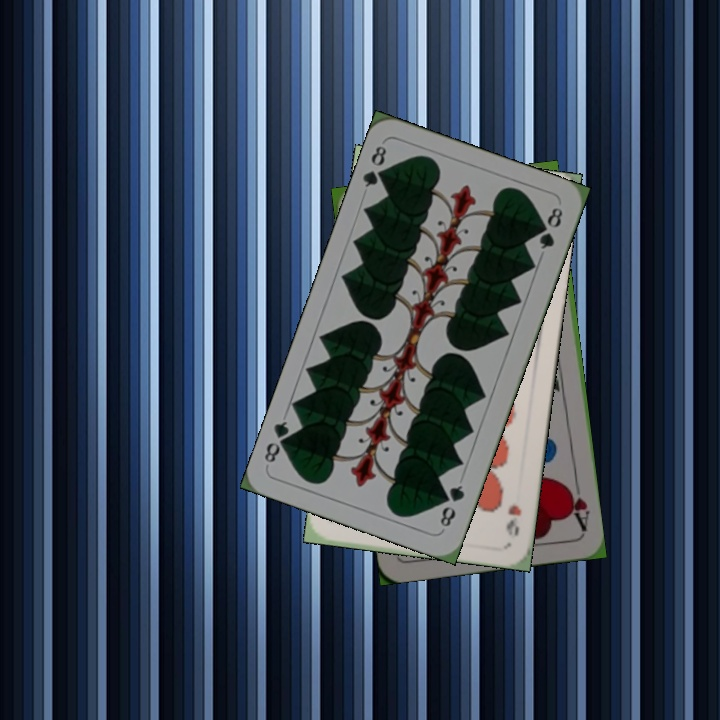G8: (358, 141, 391, 190), (436, 481, 467, 533)
H9: (502, 501, 524, 538)
HA: (562, 475, 592, 534)
